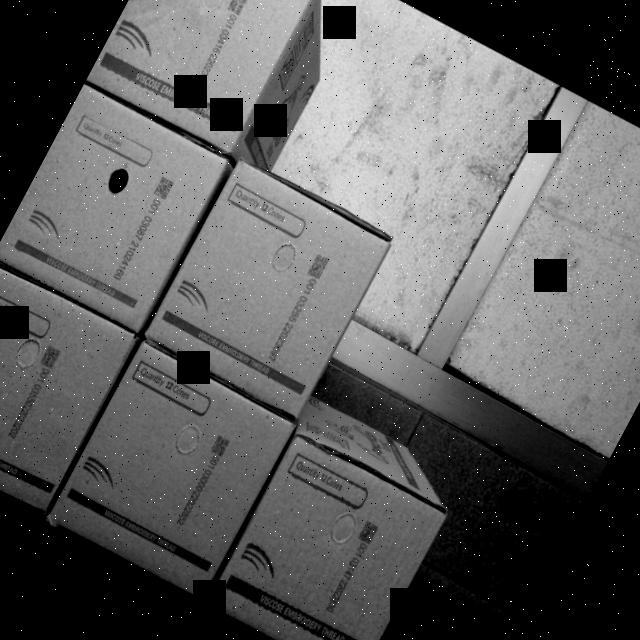box: (42, 344, 293, 614), (144, 158, 396, 424), (0, 82, 232, 325), (203, 428, 453, 640), (86, 0, 322, 153), (0, 259, 133, 515)
